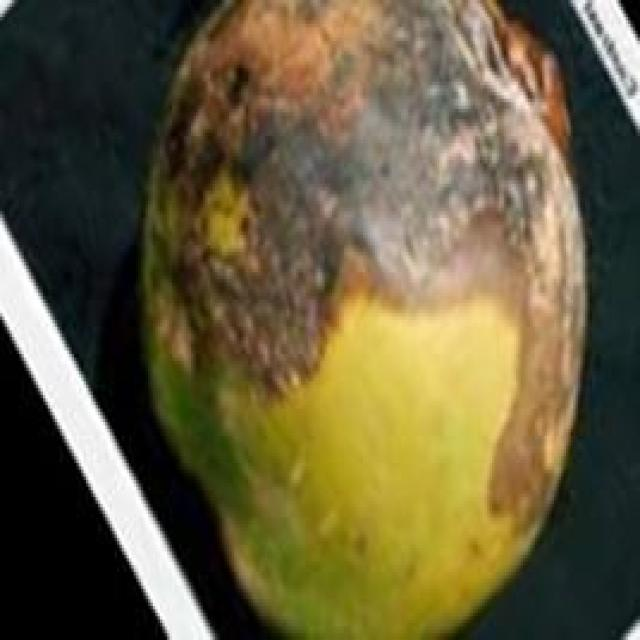damaged: (143, 0, 585, 633)
